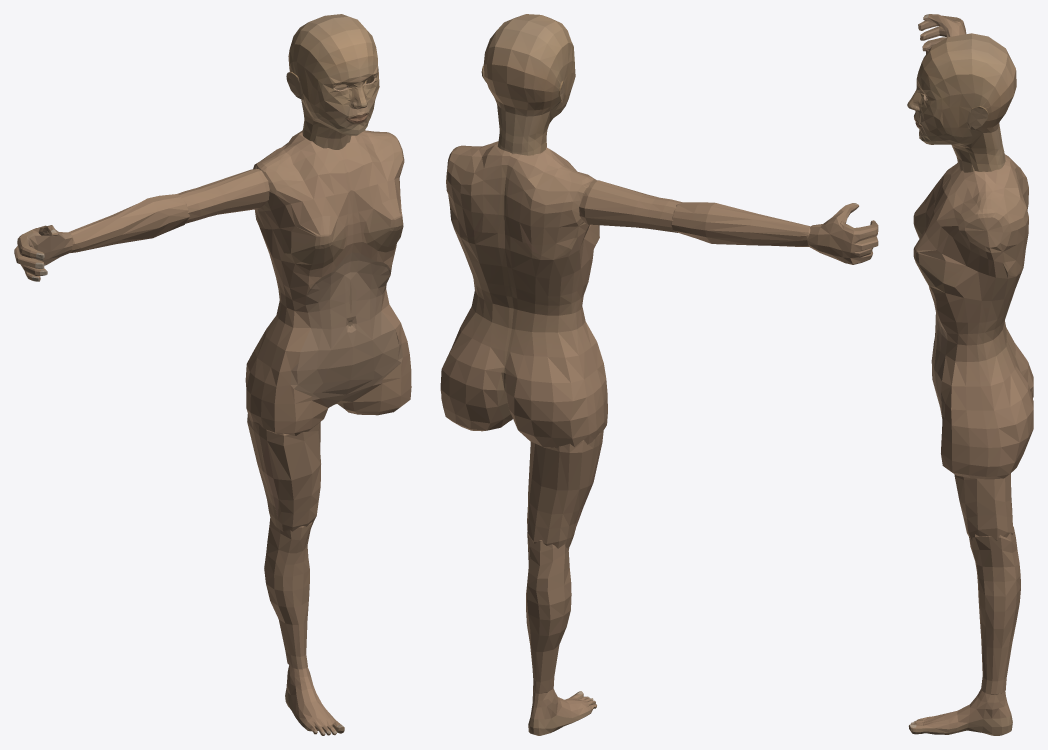
Rendered from baseSkinToneLightFemale.glb.
The picture shows the model from 3 angles, left to right: view 1: azimuth 30°, elevation 25°; view 2: azimuth 150°, elevation 25°; view 3: azimuth 270°, elevation 25°; orthographic projection. The views are drawn at different scales.
Parts seen in each view (by area): view 1: nakedTorsoSkinToneLightFemale, nakedHeadSkinToneLightFemale, nakedUpperLegSkinToneLightFemale, nakedLowerLegSkinToneLightFemale, nakedLowerArmSkinToneLightFemale, nakedUpperArmSkinToneLightFemale, nakedFootSkinToneLightFemale, nakedHandSkinToneLightFemale; view 2: nakedTorsoSkinToneLightFemale, nakedHeadSkinToneLightFemale, nakedUpperLegSkinToneLightFemale, nakedLowerLegSkinToneLightFemale, nakedLowerArmSkinToneLightFemale, nakedUpperArmSkinToneLightFemale, nakedHandSkinToneLightFemale, nakedFootSkinToneLightFemale; view 3: nakedTorsoSkinToneLightFemale, nakedHeadSkinToneLightFemale, nakedLowerLegSkinToneLightFemale, nakedUpperLegSkinToneLightFemale, nakedFootSkinToneLightFemale, nakedHandSkinToneLightFemale.
Boxes of the visible parts, x1,y1,x2,y2 form: nakedTorsoSkinToneLightFemale: (245,130,411,435); nakedHeadSkinToneLightFemale: (286,14,379,149); nakedUpperLegSkinToneLightFemale: (247,414,320,531); nakedLowerLegSkinToneLightFemale: (264,518,313,669); nakedLowerArmSkinToneLightFemale: (68,194,189,252); nakedUpperArmSkinToneLightFemale: (177,169,269,223); nakedFootSkinToneLightFemale: (285,665,344,735); nakedHandSkinToneLightFemale: (14,225,72,281); nakedTorsoSkinToneLightFemale: (440,141,607,447); nakedHeadSkinToneLightFemale: (481,14,575,155); nakedUpperLegSkinToneLightFemale: (527,431,603,548); nakedLowerLegSkinToneLightFemale: (526,532,571,693); nakedLowerArmSkinToneLightFemale: (671,202,810,246); nakedUpperArmSkinToneLightFemale: (579,180,681,232); nakedHandSkinToneLightFemale: (807,203,878,264); nakedFootSkinToneLightFemale: (528,689,596,735); nakedTorsoSkinToneLightFemale: (913,154,1033,479); nakedHeadSkinToneLightFemale: (907,33,1016,172); nakedLowerLegSkinToneLightFemale: (969,526,1020,694); nakedUpperLegSkinToneLightFemale: (954,473,1013,540); nakedFootSkinToneLightFemale: (908,688,1012,735); nakedHandSkinToneLightFemale: (918,14,966,53).
Bounding box in the file's own units: 1.15 × 1.87 × 0.3027.
